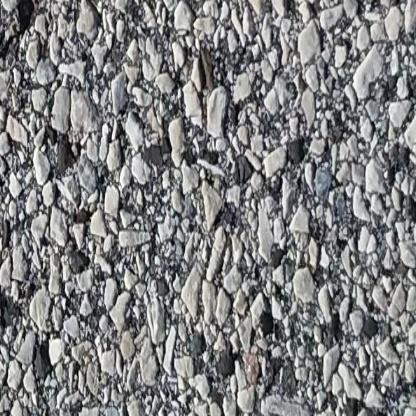Cracks: (0, 0, 56, 83)
